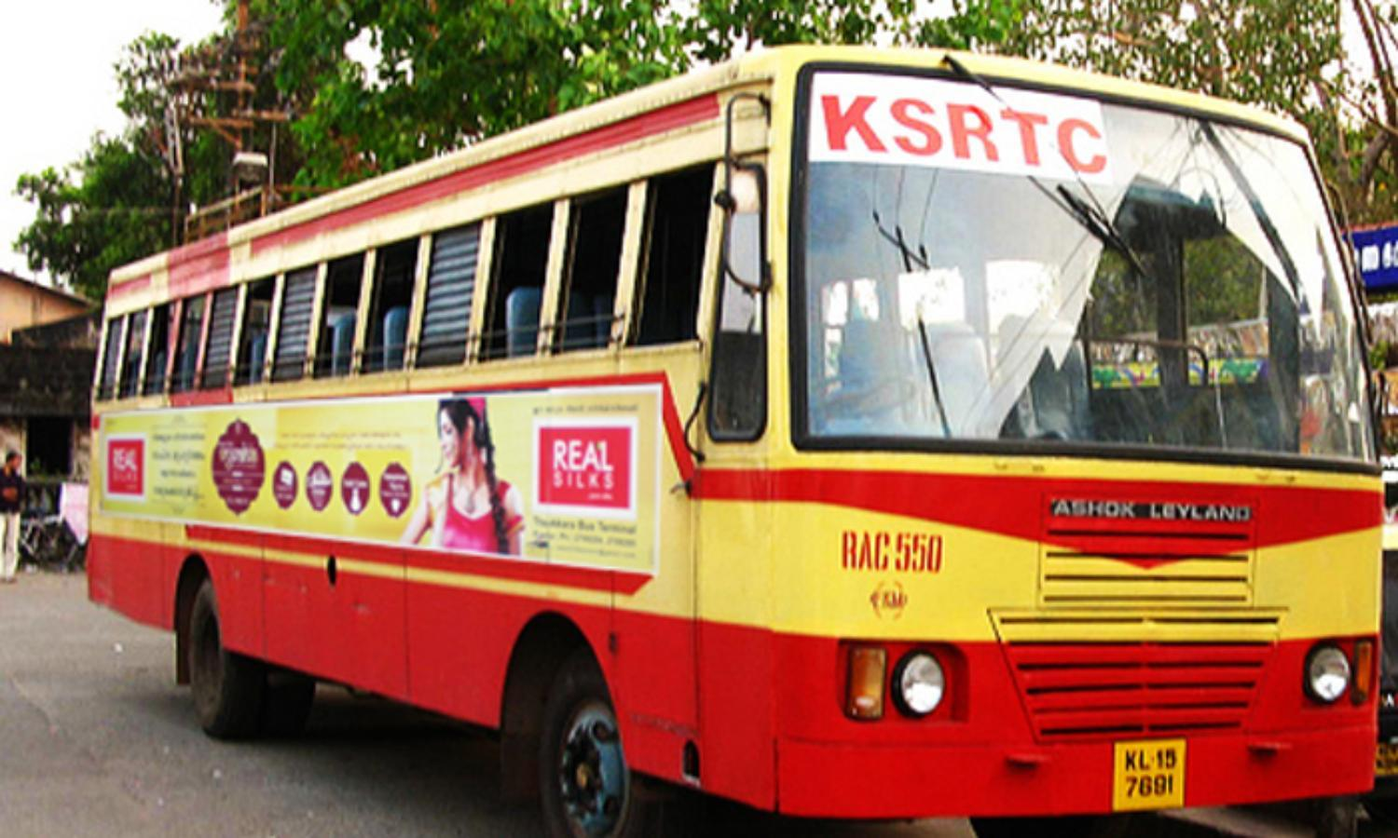Bus: (78, 44, 1397, 838), (816, 73, 1113, 178)
